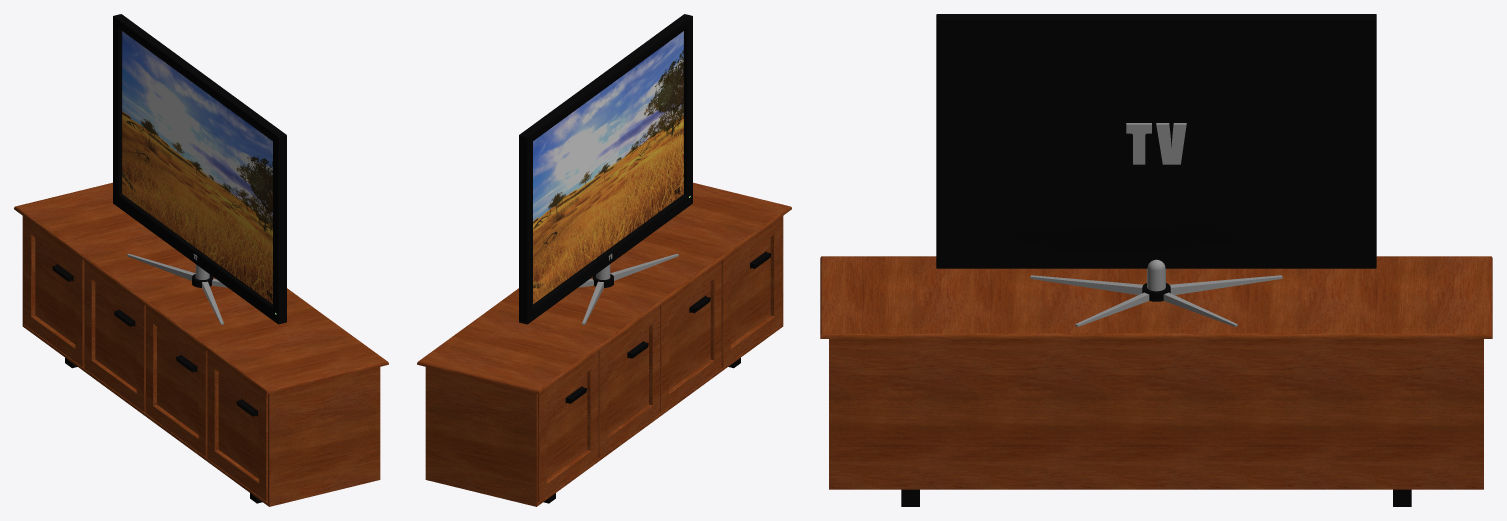
The model's file is Stand2.glb.
3 renders of one model, left to right at view 1: azimuth 30°, elevation 25°; view 2: azimuth 150°, elevation 25°; view 3: azimuth 270°, elevation 25°, orthographic. The views are drawn at different scales.
Parts seen in each view (by area): view 1: Furniture, pCube1, pCube2; view 2: Furniture, pCube1, pCube5; view 3: Furniture, pCube1, Trim_Char_V_1_2, pCube2, pCube5, pSphere1.
Part boxes in pixels (x1,y1,x2,y2): Furniture: (14,182,388,506); pCube1: (113,14,286,324); pCube2: (127,254,195,280); Furniture: (417,182,791,506); pCube1: (519,14,692,324); pCube5: (610,254,678,280); Furniture: (820,256,1492,506); pCube1: (936,14,1376,268); Trim_Char_V_1_2: (1126,123,1186,164); pCube2: (1169,275,1282,295); pCube5: (1030,275,1143,295); pSphere1: (1142,259,1170,301).
Bounding box in the file's own units: 29.19 × 80.2 × 105.
Materials: 6 (2 with a texture image).
